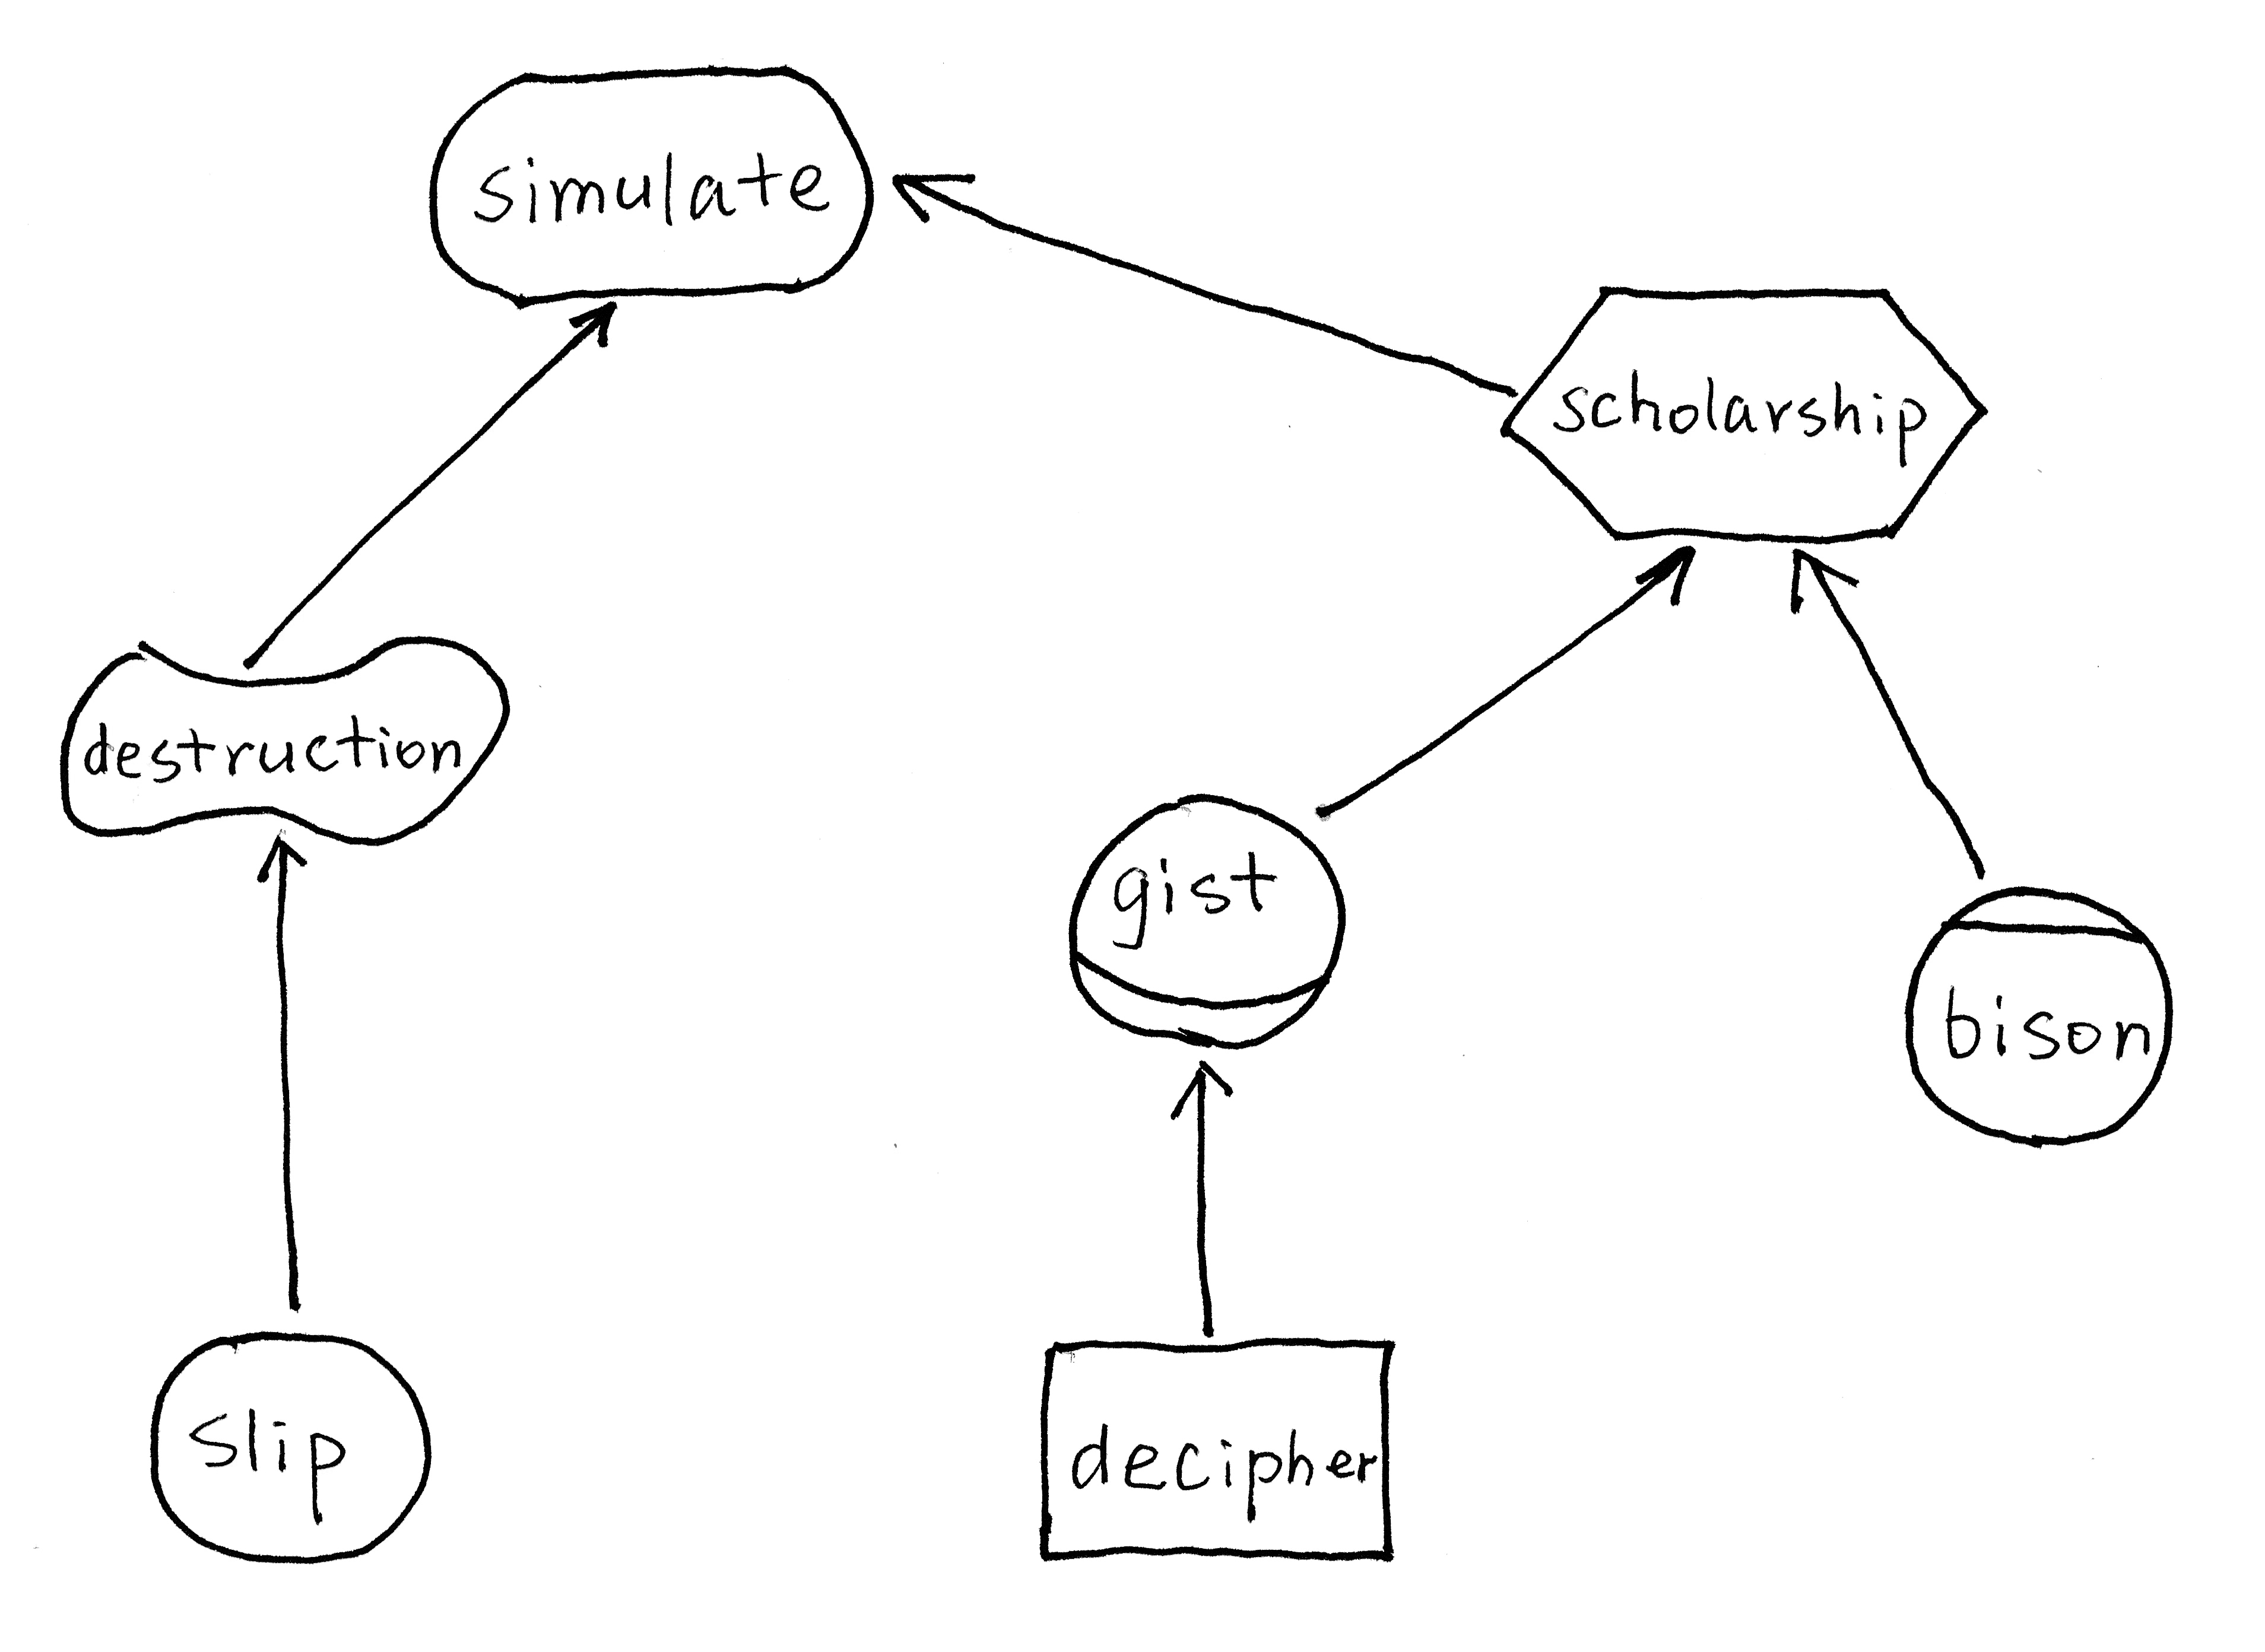actor: (125, 1313, 450, 1578)
agent: (1876, 863, 2200, 1165)
arrow: (872, 141, 992, 244), (1767, 538, 1871, 631), (1616, 529, 1713, 619), (1154, 1044, 1250, 1130), (547, 288, 645, 369), (239, 817, 320, 903)
goal: (410, 53, 885, 311)
quality: (42, 619, 535, 863)
resource: (1018, 1313, 1423, 1587)
role: (1046, 770, 1363, 1061)
task: (1484, 265, 2008, 569)
